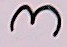sum: (2, 1, 67, 42)
